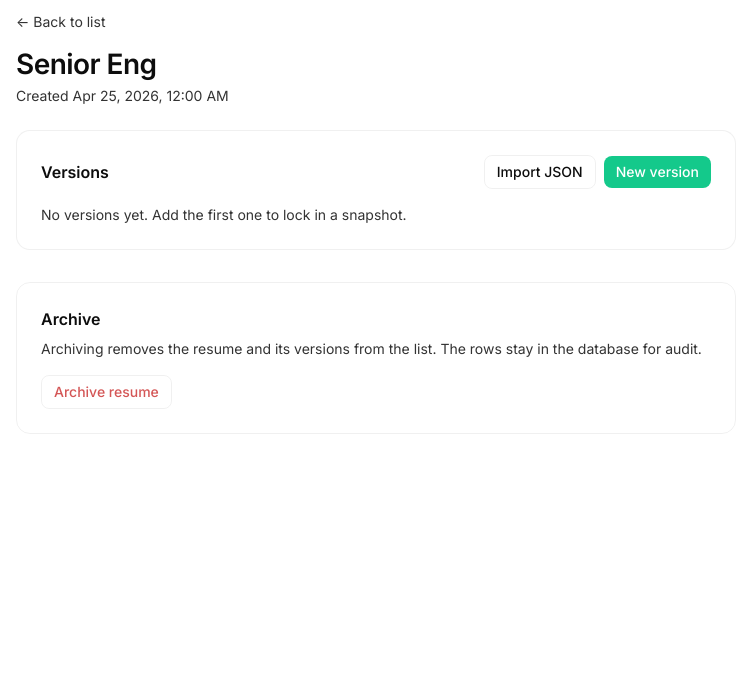
ResumeDetail › import form disables Cancel while the mutation is pending
Click the button with test id "resume-detail-import-toggle". click: point(540, 172)
box: [484,155,596,189]
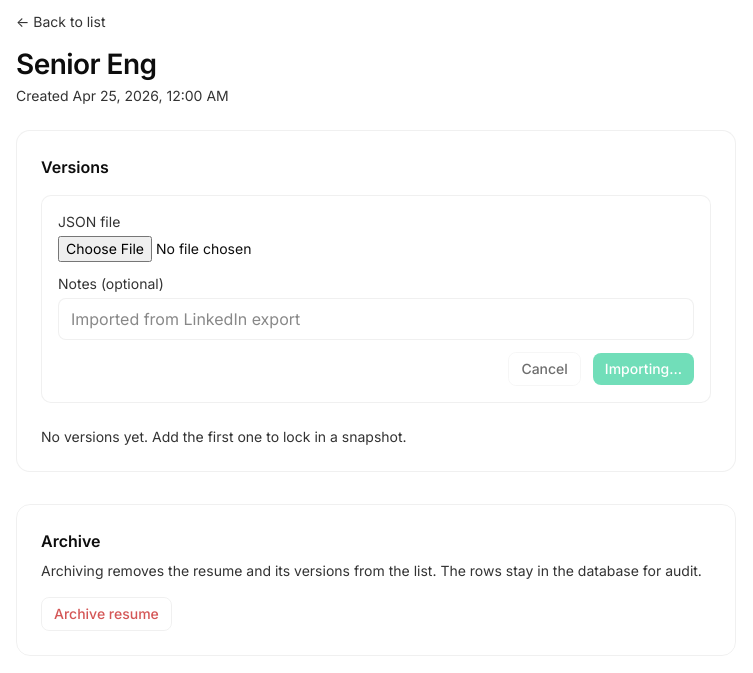
expect the button with test id "resume-detail-import-cancel" is disabled: met, box [508,352,581,386]
